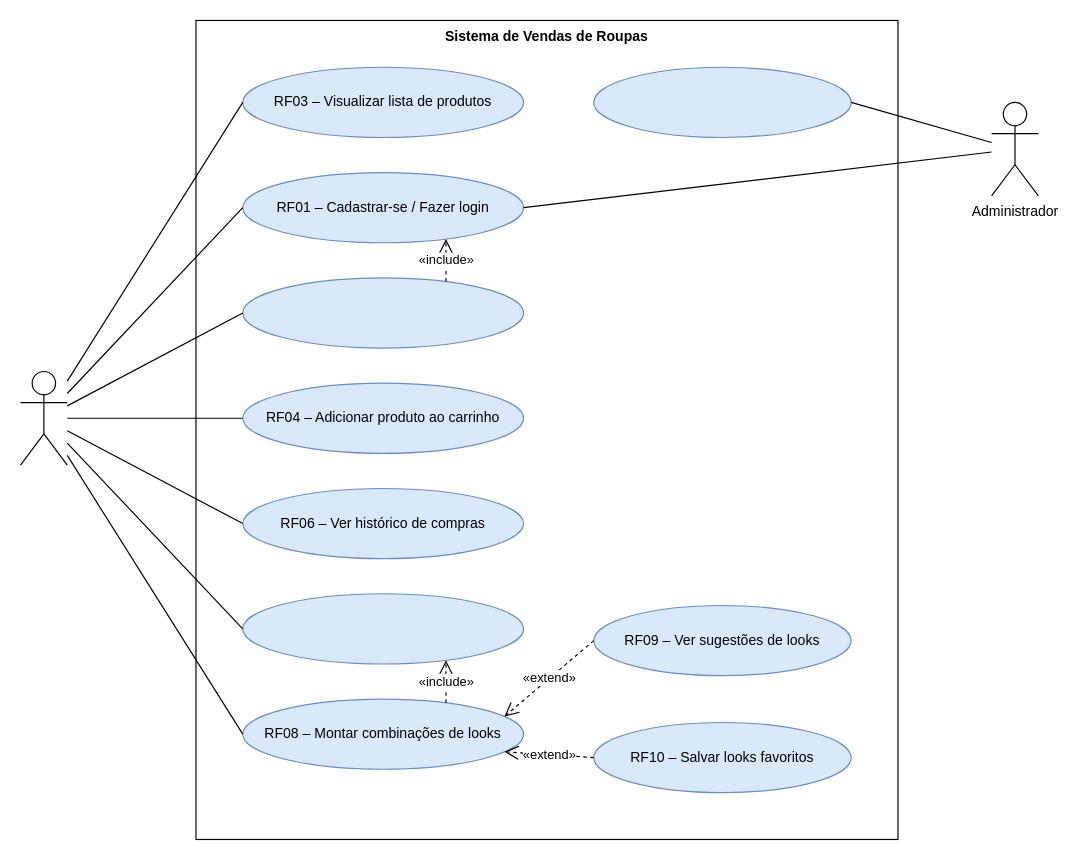
Image size: 1079x860. Some labels were removed from this diagram. Each missing label, with the centre of its shape:
"Cliente" goes at (x=43, y=417).
"RF02 – Cadastrar produtos" goes at (x=722, y=101).
"RF05 – Finalizar pedido (checkout)" goes at (x=383, y=312).
"RF07 – Selecionar peças (provador)" goes at (x=383, y=628).
